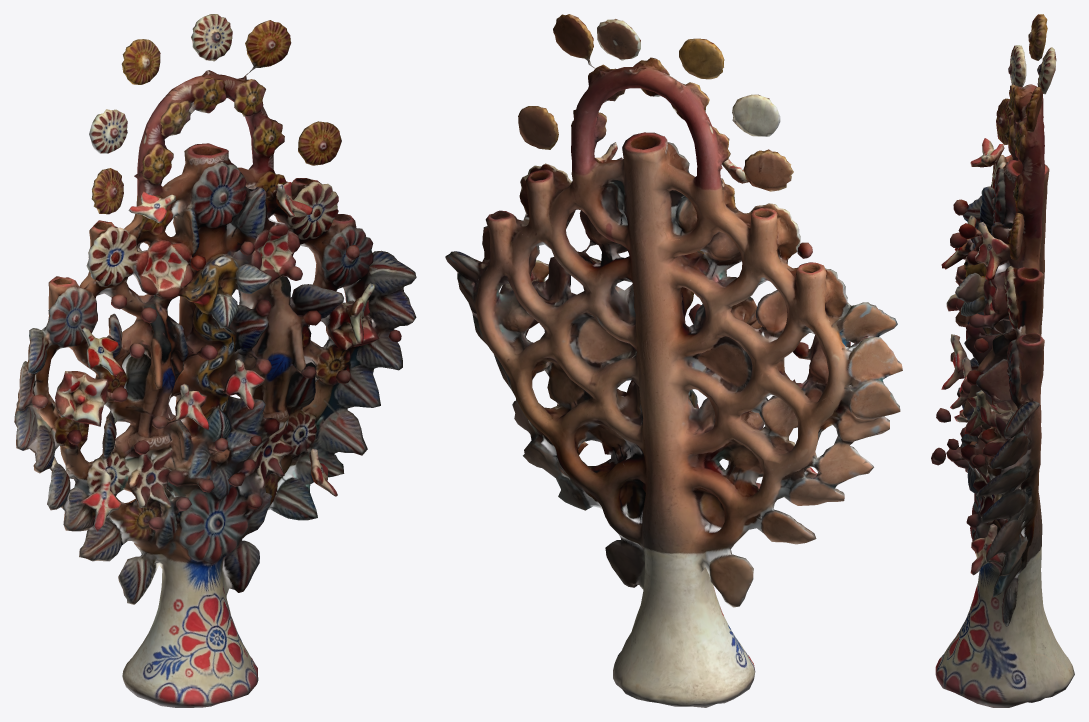
3 renders of one model, left to right at view 1: azimuth 30°, elevation 25°; view 2: azimuth 150°, elevation 25°; view 3: azimuth 270°, elevation 25°, orthographic. The views are drawn at different scales.
Parts seen in each view (by area): view 1: 3DModel; view 2: 3DModel; view 3: 3DModel.
Part boxes in pixels (bbox=[...]): 3DModel: bbox=[14, 14, 416, 707]; 3DModel: bbox=[445, 14, 902, 707]; 3DModel: bbox=[931, 14, 1074, 707].
Bounding box in the file's own units: 0.6233 × 0.9167 × 0.183.
1 material, 1 textured.
